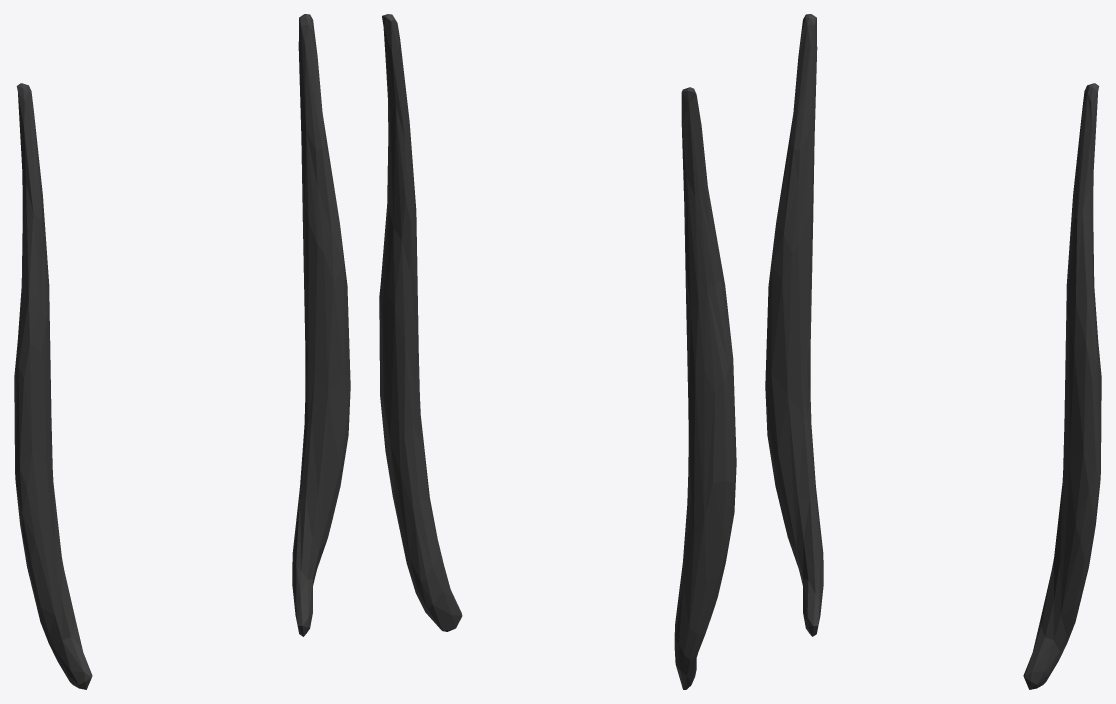
The model's file is m_flexor_carpi_ulnaris_humeral.glb.
3 renders of one model, left to right at view 1: azimuth 30°, elevation 25°; view 2: azimuth 150°, elevation 25°; view 3: azimuth 330°, elevation 25°, orthographic. The views are drawn at different scales.
Parts seen in each view (by area): view 1: m_flexor_carpi_ulnaris_humeral; view 2: m_flexor_carpi_ulnaris_humeral; view 3: m_flexor_carpi_ulnaris_humeral.
Part boxes in pixels (left/top/right/bottom): m_flexor_carpi_ulnaris_humeral: left=14, top=14, right=350, bottom=689; m_flexor_carpi_ulnaris_humeral: left=379, top=14, right=736, bottom=689; m_flexor_carpi_ulnaris_humeral: left=765, top=14, right=1101, bottom=689.
Size of the model in its own units: 0.00392 by 0.00667 by 0.000715.
Materials: 1 (1 with a texture image).
